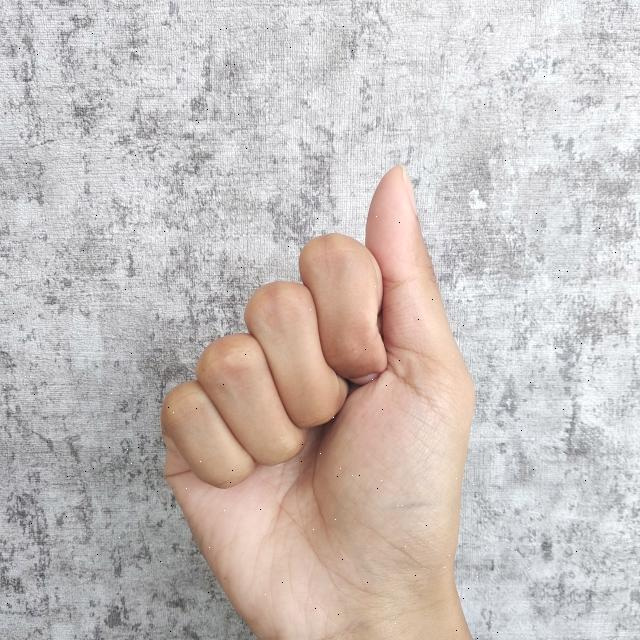A: (153, 155, 481, 640)
